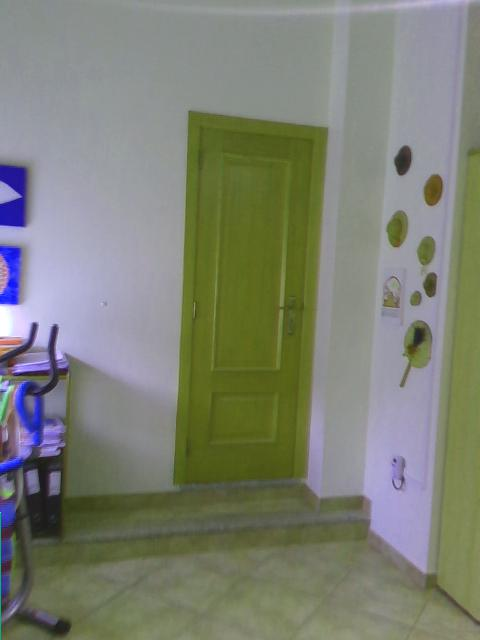closed_door: (172, 110, 328, 482)
